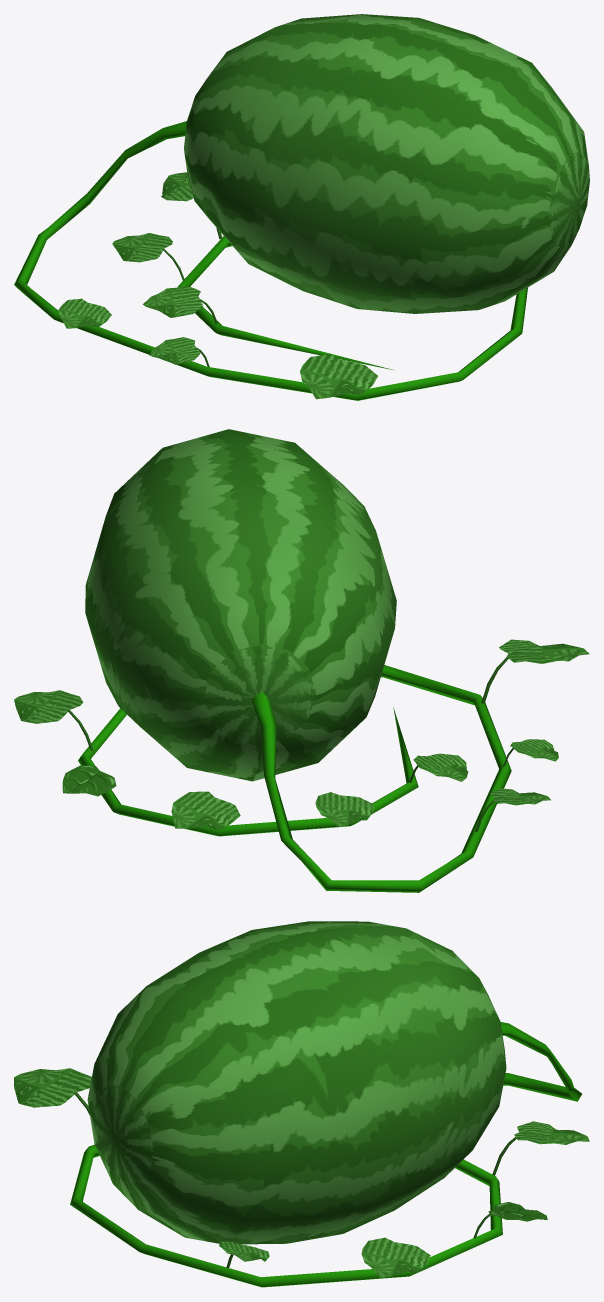
File: Watermelon Stage 2.fbx
3 renders of one model, top to bottom at view 1: azimuth 30°, elevation 25°; view 2: azimuth 150°, elevation 25°; view 3: azimuth 270°, elevation 25°, orthographic. The views are drawn at different scales.
Visible parts, largest first — view 1: Watermelon_Full_Grown, Watermelon_Vine_Full_Grown, polySurface86, polySurface96, polySurface95, polySurface89, polySurface88, polySurface94; view 2: Watermelon_Full_Grown, Watermelon_Vine_Full_Grown, polySurface94, polySurface92, polySurface86, polySurface95, polySurface93, polySurface96, polySurface89, polySurface88; view 3: Watermelon_Full_Grown, Watermelon_Vine_Full_Grown, polySurface86, polySurface92, polySurface94, polySurface93, polySurface91.
Boxes of the visible parts, bbox=[...] form: Watermelon_Full_Grown: bbox=[184, 14, 589, 313]; Watermelon_Vine_Full_Grown: bbox=[14, 121, 527, 400]; polySurface86: bbox=[300, 354, 377, 399]; polySurface96: bbox=[143, 286, 217, 323]; polySurface95: bbox=[112, 233, 184, 280]; polySurface89: bbox=[58, 298, 111, 328]; polySurface88: bbox=[149, 337, 209, 366]; polySurface94: bbox=[161, 172, 221, 239]; Watermelon_Full_Grown: bbox=[85, 429, 396, 781]; Watermelon_Vine_Full_Grown: bbox=[78, 665, 511, 892]; polySurface94: bbox=[171, 791, 240, 829]; polySurface92: bbox=[14, 690, 94, 754]; polySurface86: bbox=[481, 639, 589, 703]; polySurface95: bbox=[315, 792, 373, 827]; polySurface93: bbox=[62, 765, 116, 796]; polySurface96: bbox=[409, 753, 468, 782]; polySurface89: bbox=[475, 788, 550, 832]; polySurface88: bbox=[503, 739, 558, 766]; Watermelon_Full_Grown: bbox=[87, 921, 506, 1244]; Watermelon_Vine_Full_Grown: bbox=[70, 1022, 581, 1287]; polySurface86: bbox=[14, 1068, 91, 1115]; polySurface92: bbox=[361, 1237, 430, 1278]; polySurface94: bbox=[492, 1121, 589, 1175]; polySurface93: bbox=[473, 1202, 547, 1238]; polySurface91: bbox=[219, 1241, 269, 1268].
Size of the model in its own units: 0.5903 by 0.3173 by 0.5737.
Materials: 2 (1 with a texture image).
